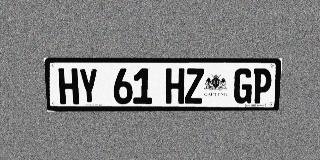1: (133, 68, 152, 104)
6: (113, 68, 133, 104)
G: (233, 68, 253, 103)
H: (58, 68, 79, 104), (166, 68, 185, 104)
P: (252, 68, 272, 103)
Y: (78, 68, 99, 104)
Z: (185, 68, 204, 104)
